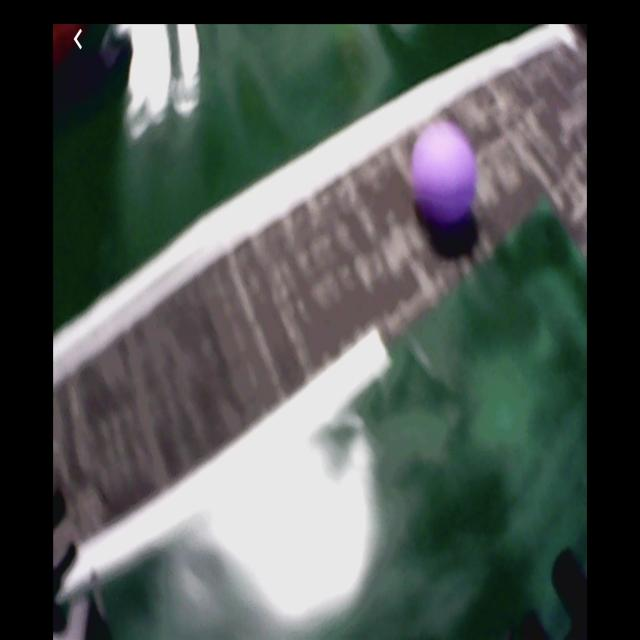ball: (408, 124, 475, 227)
